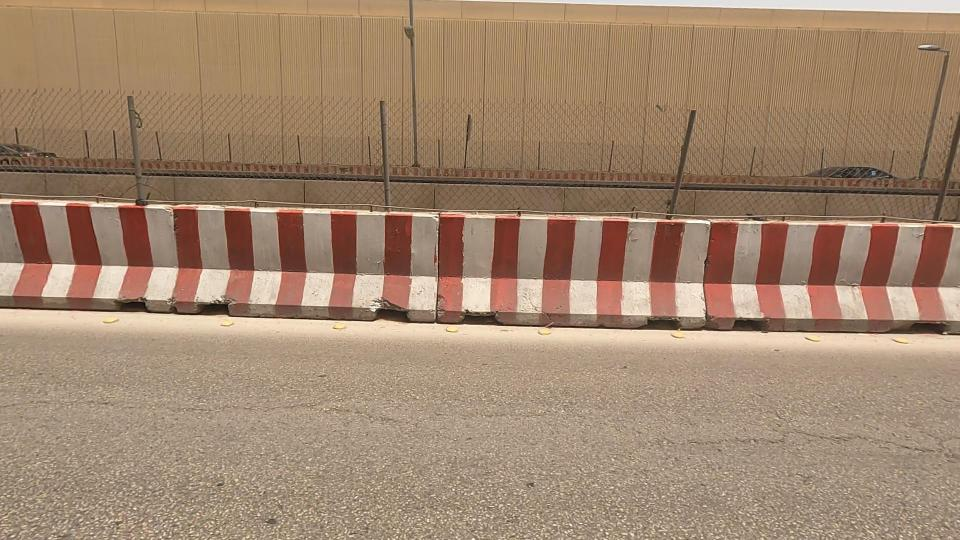CONSTRUCTION_ROAD: (454, 79, 960, 416), (145, 81, 657, 398), (0, 61, 285, 364)
